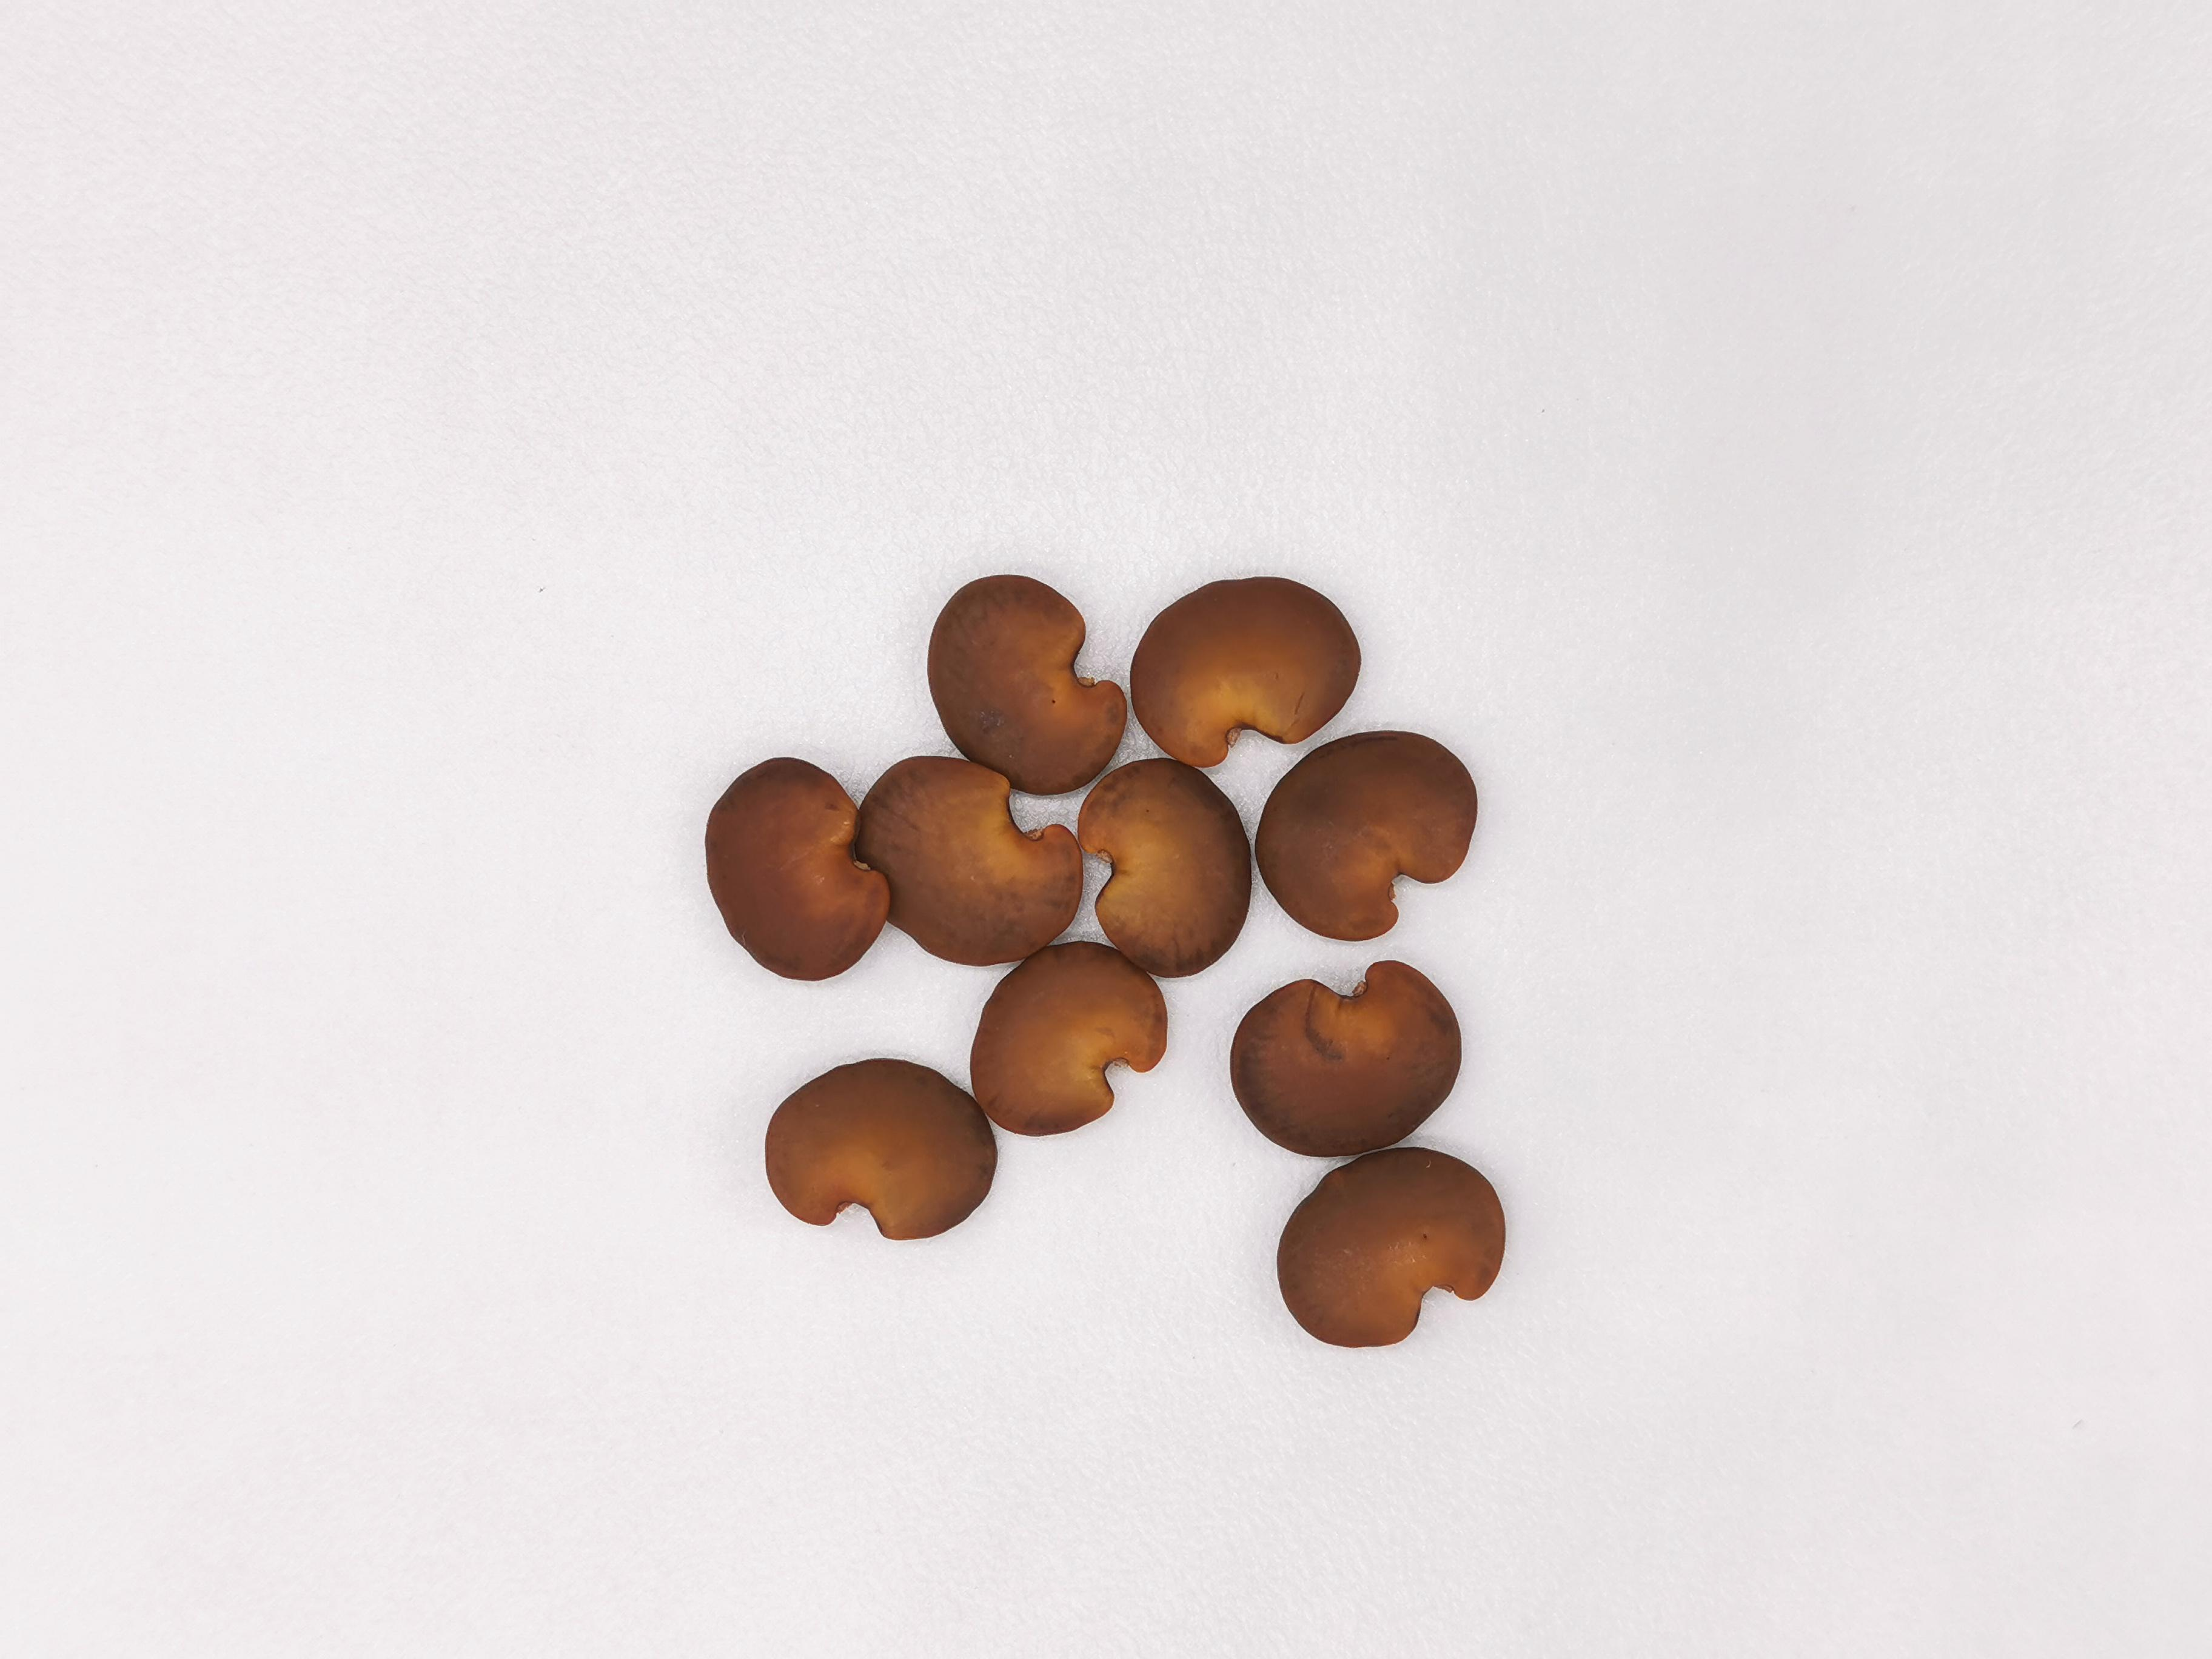seed: (848, 751, 1076, 965), (1224, 958, 1465, 1152), (1256, 732, 1475, 934), (1280, 1145, 1501, 1342), (927, 570, 1120, 795), (1129, 577, 1357, 765), (765, 1056, 995, 1239), (1069, 756, 1252, 983), (704, 756, 885, 981), (967, 941, 1165, 1134)
